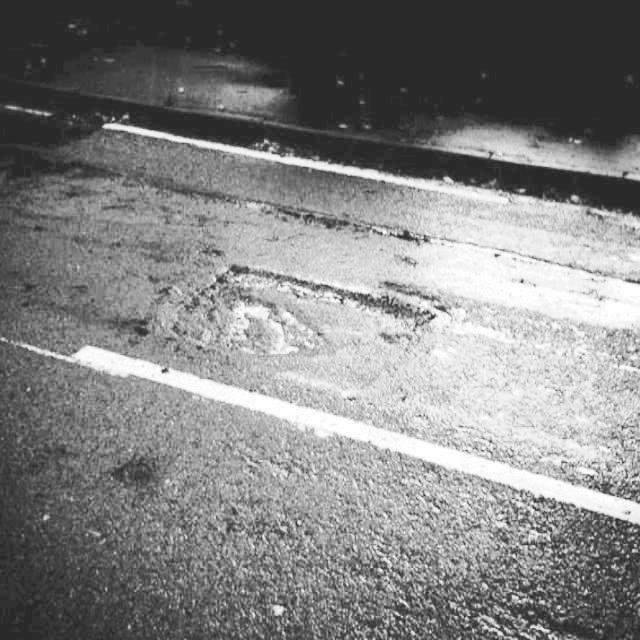Pothole: (179, 253, 435, 361), (112, 451, 154, 501)
